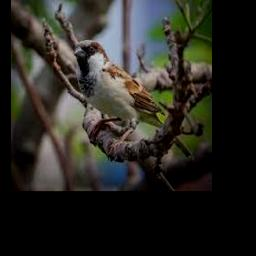Sparrow: (74, 39, 165, 150)
